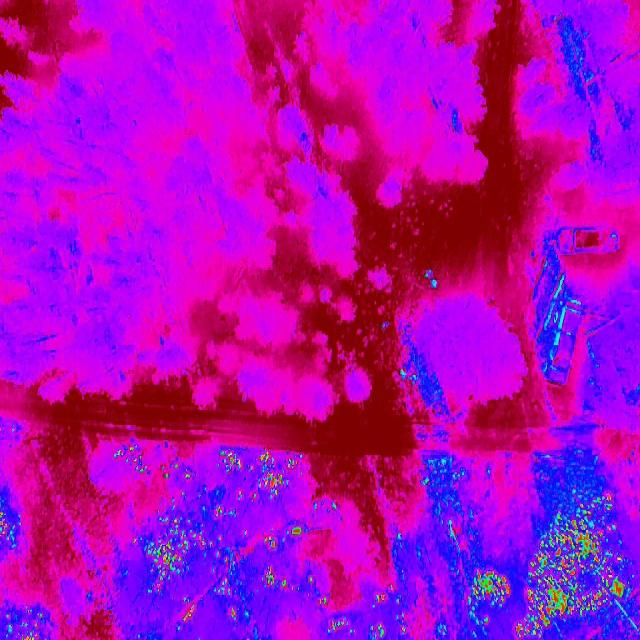fire: (140, 453, 321, 614), (526, 491, 640, 640), (466, 564, 512, 632), (112, 447, 180, 482), (328, 614, 391, 640), (0, 508, 21, 550), (512, 611, 528, 640)
